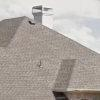Chimney: (29, 1, 61, 29)
